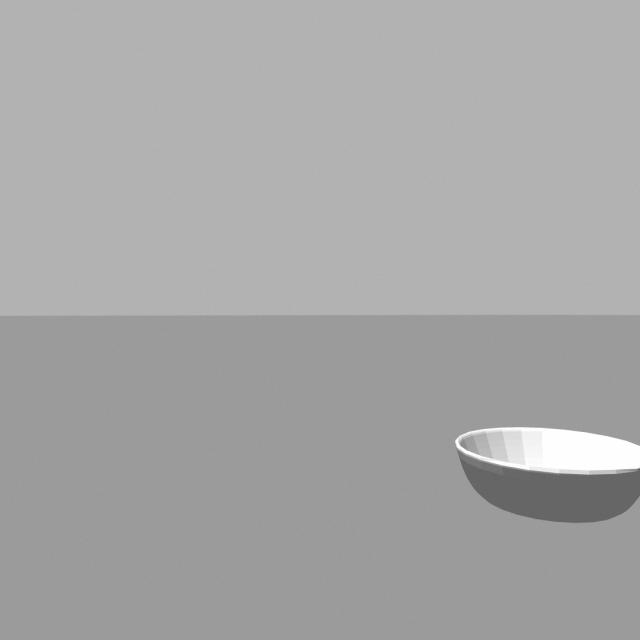bowl: (431, 368, 640, 564)
